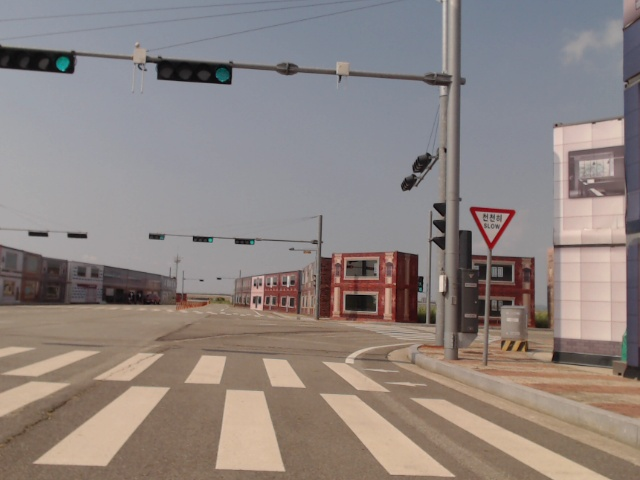straight_green_4: (2, 44, 75, 75), (156, 58, 232, 84), (234, 238, 255, 246), (192, 235, 212, 243)
